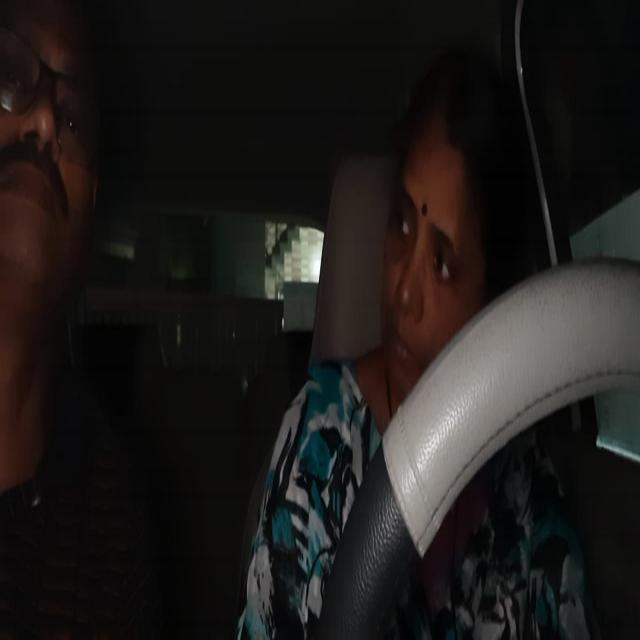LeftRight: (381, 64, 503, 396)
person: (0, 0, 120, 337)
